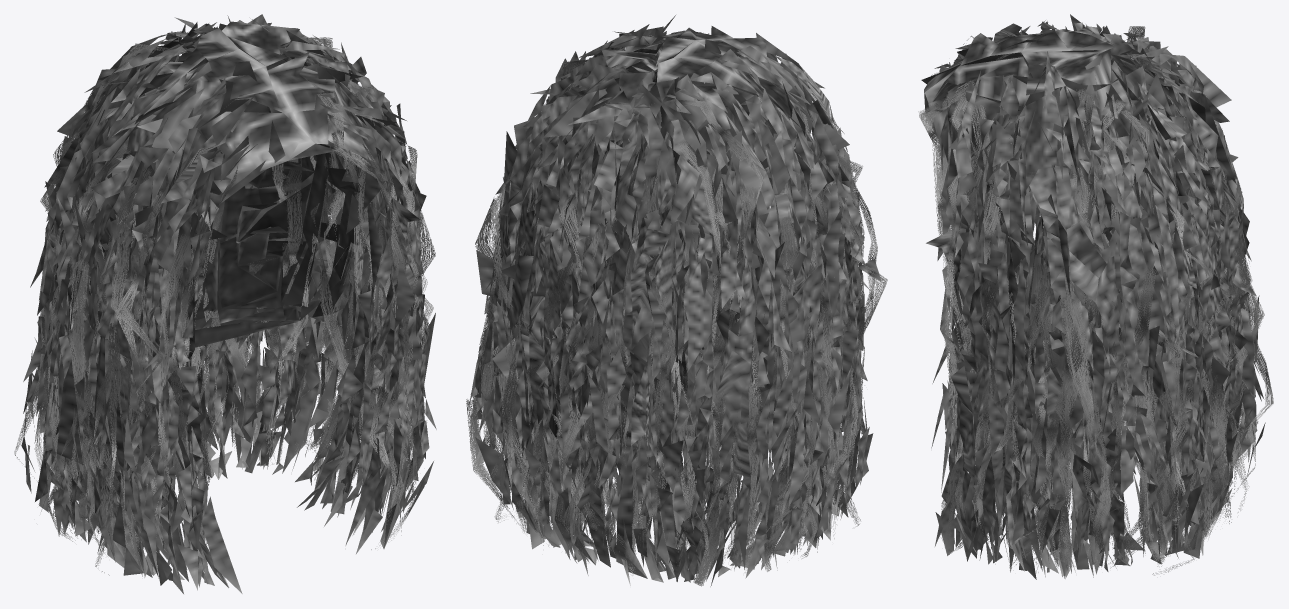
The model's file is hair_braids.glb.
The picture shows the model from 3 angles, left to right: view 1: azimuth 30°, elevation 25°; view 2: azimuth 150°, elevation 25°; view 3: azimuth 270°, elevation 25°; orthographic projection. The views are drawn at different scales.
Visible parts, largest first — view 1: Mesh_0, haircards; view 2: Mesh_0, haircards; view 3: Mesh_0, haircards.
Part boxes in pixels (x1=…): Mesh_0: x1=21, y1=14, x2=436, y2=593; haircards: x1=14, y1=37, x2=435, y2=575; Mesh_0: x1=469, y1=15, x2=881, y2=586; haircards: x1=466, y1=59, x2=887, y2=586; Mesh_0: x1=921, y1=14, x2=1265, y2=579; haircards: x1=918, y1=26, x2=1273, y2=575.
Size of the model in its own units: 0.214 by 0.2784 by 0.1785.
Materials: 2 (2 with a texture image).
